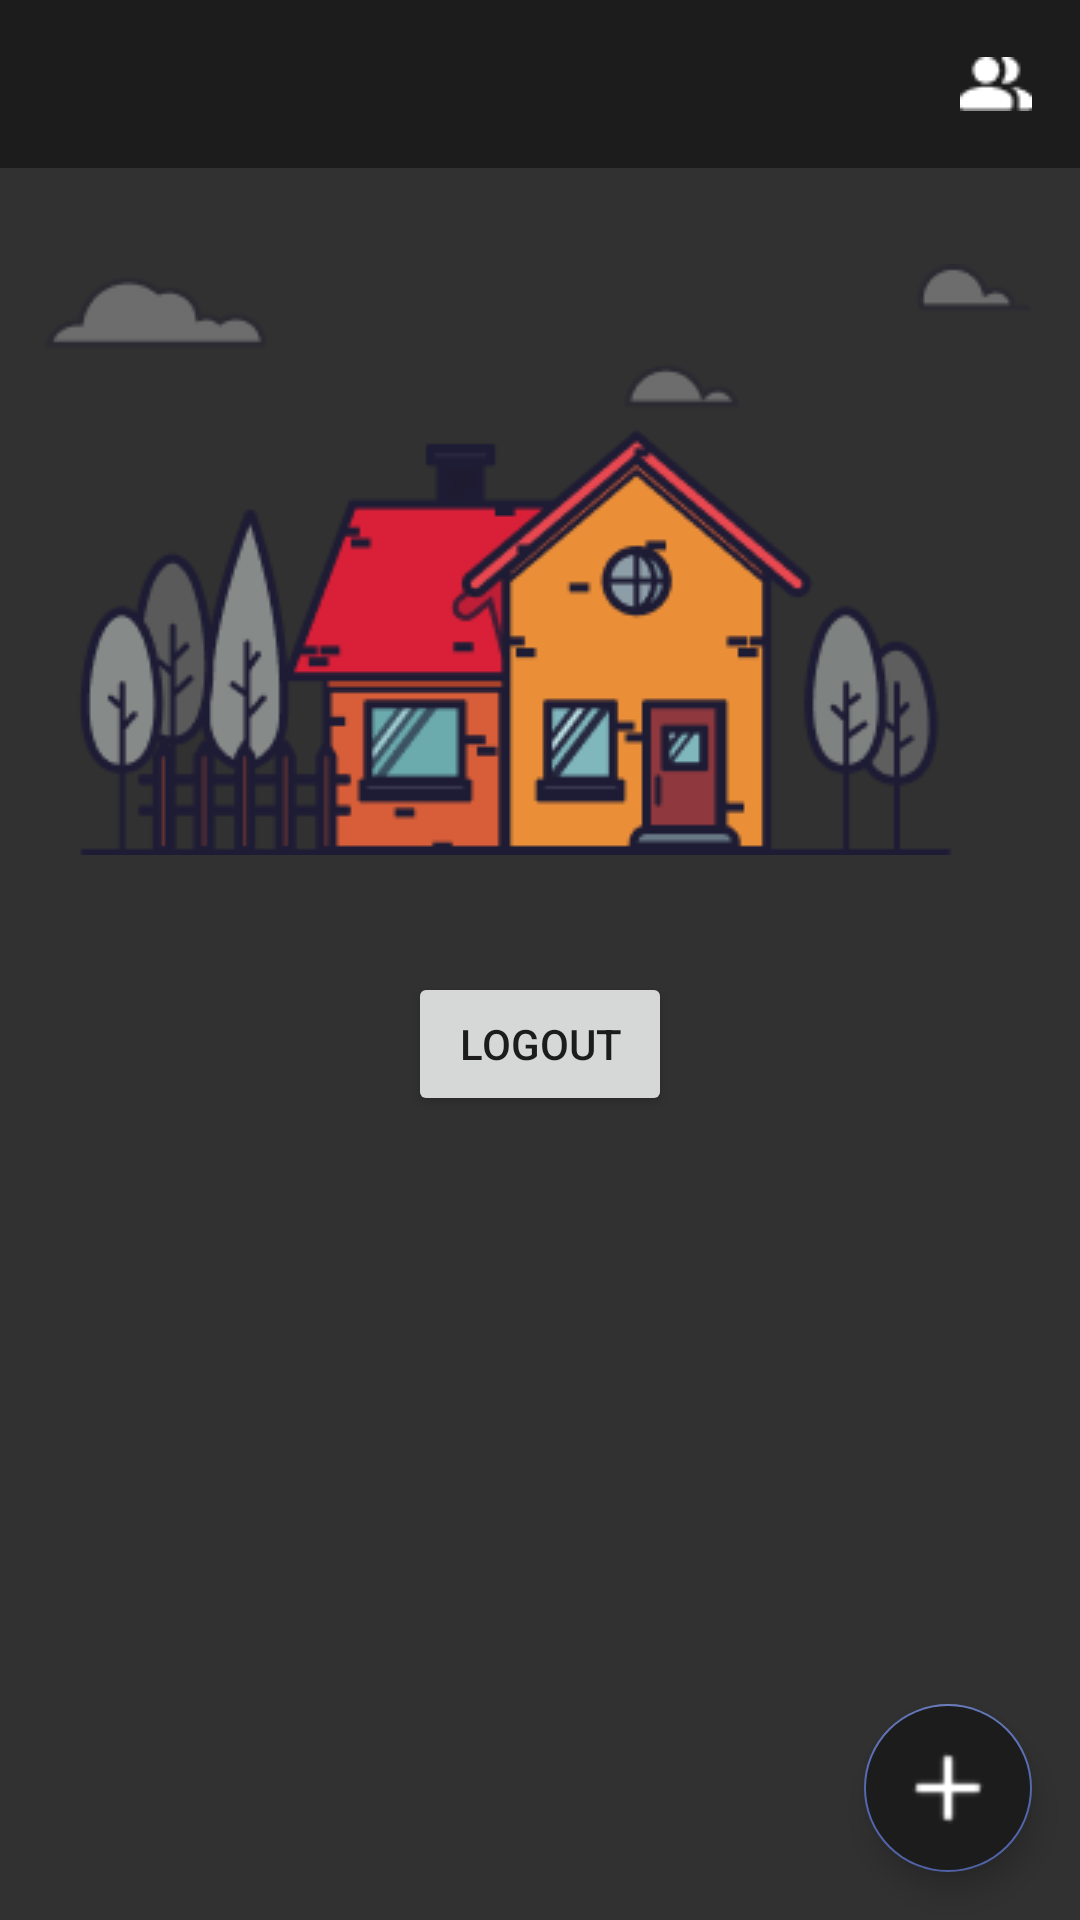

Icon click points for this 1080w x 1920h phone screenshot, format (x=x, y=y):
membermenu: (x=996, y=84)
plus: (x=948, y=1788)
